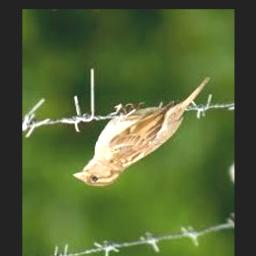Sparrow: (72, 78, 211, 188)
